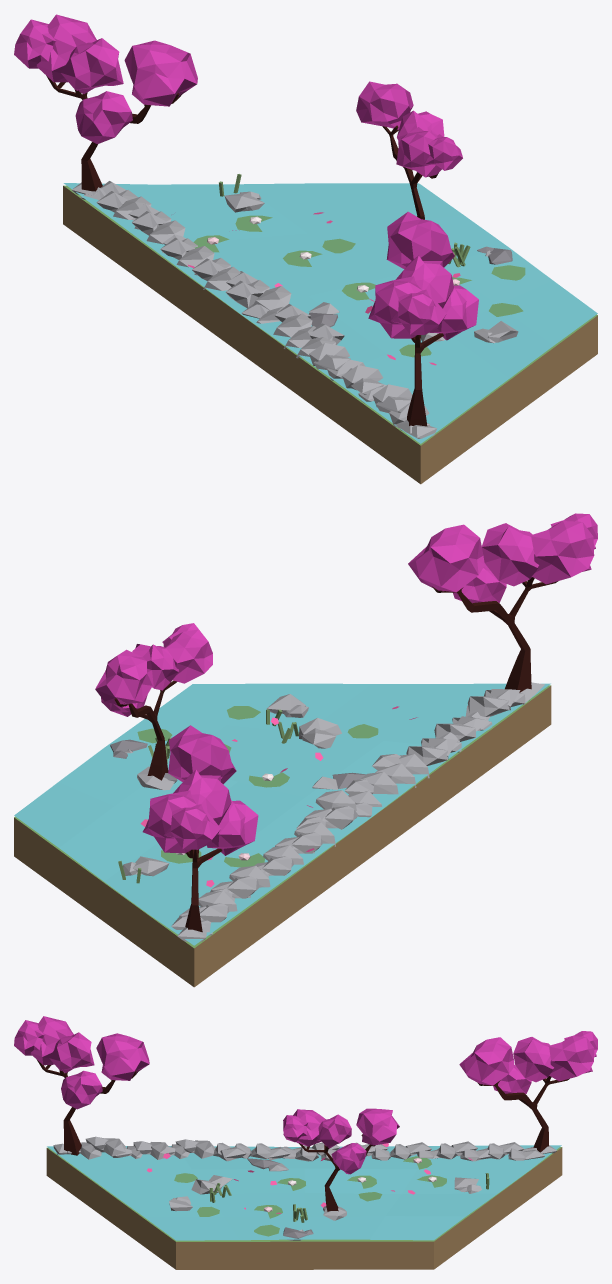
The model's file is pond_half_sprint3.glb.
3 renders of one model, top to bottom at view 1: azimuth 30°, elevation 25°; view 2: azimuth 150°, elevation 25°; view 3: azimuth 270°, elevation 25°, orthographic. The views are drawn at different scales.
Parts seen in each view (by area): view 1: SplitRiverWater, SplitBase, Tree_0_Icosphere, Tree_0_Icosphere.005, Tree_0_Icosphere.003, Tree_0_Icosphere.004, Tree_0_Icosphere.010, Tree_0_Icosphere.002, Tree_0_Icosphere.009, Tree_0_Icosphere.008, Tree_0_Icosphere.007, Tree_0_Icosphere.006 (+7 smaller); view 2: SplitRiverWater, SplitBase, Tree_0_Icosphere.005, Tree_0_Icosphere.009, Tree_0_Icosphere, Tree_0_Icosphere.007, Tree_0_Icosphere.010, Tree_0_Cube.001, Tree_0_Icosphere.014, Tree_0_Icosphere.001, Tree_0_Icosphere.002, Tree_0_Icosphere.004 (+6 smaller); view 3: SplitRiverWater, SplitBase, Tree_0_Icosphere.005, Tree_0_Icosphere, Tree_0_Icosphere.002, Tree_0_Icosphere.003, Tree_0_Icosphere.007, Tree_0_Icosphere.010, Tree_0_Icosphere.006, Tree_0_Icosphere.009, Tree_0_Cube, Tree_0_Icosphere.012 (+7 smaller).
Boxes of the visible parts, left/top/right/bottom form: SplitRiverWater: left=63, top=183, right=597, bottom=443; SplitBase: left=63, top=185, right=597, bottom=484; Tree_0_Icosphere: left=124, top=40, right=197, bottom=106; Tree_0_Icosphere.005: left=386, top=211, right=454, bottom=268; Tree_0_Icosphere.003: left=60, top=38, right=123, bottom=93; Tree_0_Icosphere.004: left=75, top=91, right=132, bottom=144; Tree_0_Icosphere.010: left=356, top=81, right=413, bottom=129; Tree_0_Icosphere.002: left=36, top=14, right=96, bottom=82; Tree_0_Icosphere.009: left=368, top=276, right=432, bottom=338; Tree_0_Icosphere.008: left=390, top=289, right=446, bottom=334; Tree_0_Icosphere.007: left=395, top=255, right=453, bottom=308; Tree_0_Icosphere.006: left=429, top=285, right=478, bottom=340; SplitRiverWater: left=14, top=683, right=550, bottom=945; SplitBase: left=14, top=685, right=551, bottom=987; Tree_0_Icosphere.005: left=408, top=524, right=484, bottom=592; Tree_0_Icosphere.009: left=530, top=521, right=594, bottom=584; Tree_0_Icosphere: left=168, top=725, right=236, bottom=784; Tree_0_Icosphere.007: left=481, top=523, right=539, bottom=586; Tree_0_Icosphere.010: left=95, top=649, right=152, bottom=704; Tree_0_Cube.001: left=432, top=577, right=558, bottom=692; Tree_0_Icosphere.014: left=165, top=629, right=212, bottom=683; Tree_0_Icosphere.001: left=164, top=804, right=220, bottom=849; Tree_0_Icosphere.002: left=142, top=790, right=212, bottom=853; Tree_0_Icosphere.004: left=207, top=799, right=258, bottom=855; SplitRiverWater: left=47, top=1145, right=561, bottom=1240; SplitBase: left=46, top=1147, right=562, bottom=1269; Tree_0_Icosphere.005: left=96, top=1033, right=149, bottom=1080; Tree_0_Icosphere: left=459, top=1037, right=514, bottom=1085; Tree_0_Icosphere.002: left=548, top=1036, right=594, bottom=1081; Tree_0_Icosphere.003: left=513, top=1037, right=554, bottom=1082; Tree_0_Icosphere.007: left=49, top=1032, right=94, bottom=1073; Tree_0_Icosphere.010: left=356, top=1108, right=399, bottom=1145; Tree_0_Icosphere.006: left=61, top=1070, right=102, bottom=1109; Tree_0_Icosphere.009: left=30, top=1016, right=73, bottom=1065; Tree_0_Cube: left=477, top=1076, right=569, bottom=1152; Tree_0_Icosphere.012: left=317, top=1114, right=351, bottom=1148.
Bounding box in the file's own units: 2.52 × 1.67 × 5.66.
